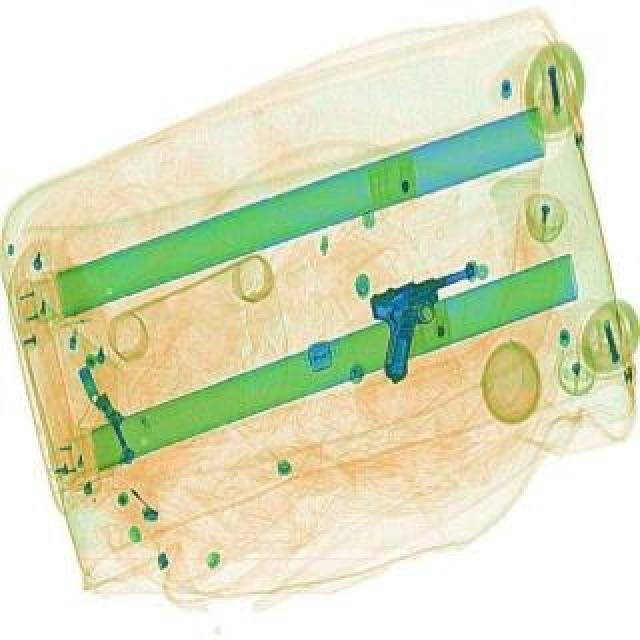gun: (358, 258, 506, 382)
